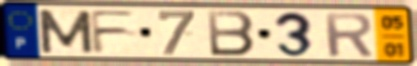3: (273, 9, 320, 60)
7: (156, 9, 197, 56)
B: (205, 9, 257, 58)
F: (87, 9, 140, 55)
M: (35, 8, 96, 55)
R: (321, 11, 376, 58)
